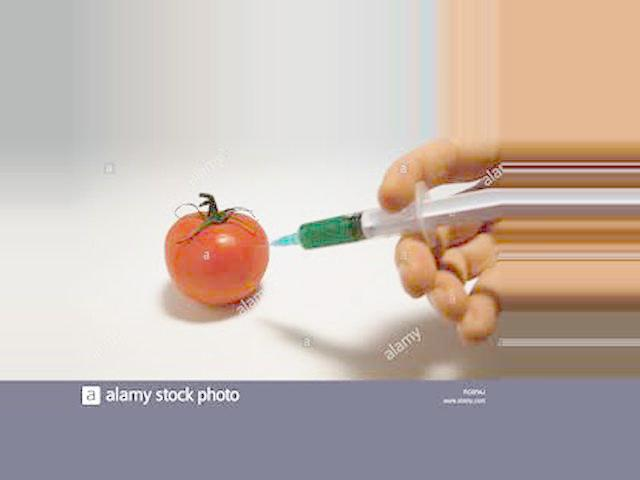tomato: (166, 211, 269, 304)
